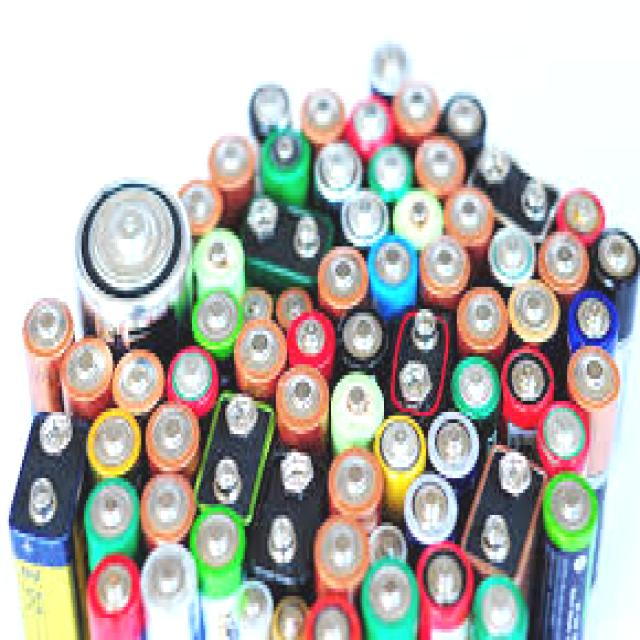B3: (82, 195, 184, 307), (193, 511, 242, 578), (195, 290, 240, 348), (89, 482, 134, 539), (320, 522, 364, 580), (571, 349, 615, 405), (368, 564, 411, 620), (424, 235, 467, 290), (26, 298, 69, 351), (543, 404, 585, 456), (66, 342, 108, 394), (379, 418, 420, 471), (426, 552, 464, 606), (239, 324, 280, 374), (342, 310, 383, 360), (596, 231, 636, 281), (550, 479, 590, 529), (172, 350, 212, 400), (482, 582, 518, 633), (96, 563, 132, 612), (120, 356, 158, 402), (458, 361, 494, 409), (374, 240, 411, 286), (245, 195, 280, 242), (38, 411, 74, 456), (96, 416, 131, 462), (413, 484, 448, 530), (280, 449, 314, 496), (446, 96, 483, 139), (321, 143, 356, 188), (398, 360, 432, 406), (498, 451, 532, 497), (436, 419, 470, 464), (576, 297, 610, 340), (466, 295, 500, 338), (511, 358, 545, 401), (480, 514, 511, 561), (267, 516, 297, 564), (212, 457, 243, 503), (225, 394, 258, 437), (28, 477, 58, 524), (156, 411, 188, 455), (151, 481, 182, 526), (478, 143, 512, 184), (286, 374, 319, 416), (153, 552, 184, 596), (329, 254, 360, 295), (314, 604, 349, 640), (216, 138, 248, 177), (356, 100, 386, 140), (498, 232, 528, 272), (566, 193, 598, 230), (520, 288, 550, 327), (276, 599, 305, 638), (521, 180, 548, 221), (412, 308, 439, 348), (186, 188, 214, 226), (294, 216, 320, 255), (298, 319, 324, 355), (404, 86, 430, 120), (345, 383, 371, 416), (241, 586, 266, 620), (273, 132, 298, 165)
